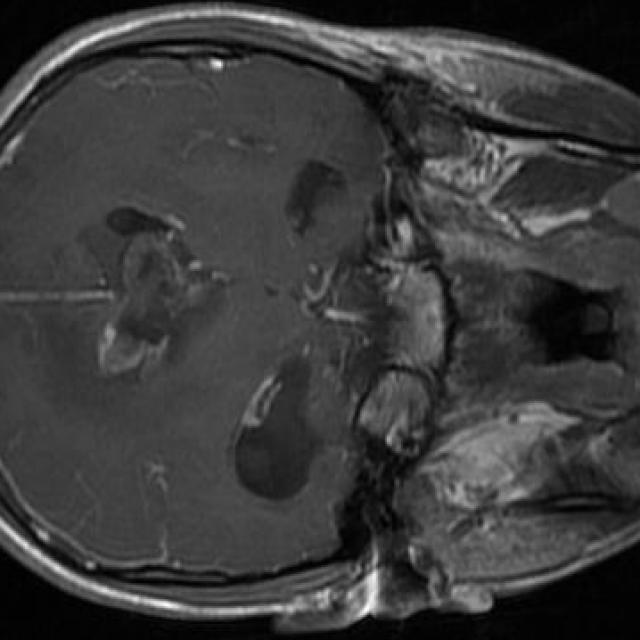glioma: (91, 209, 226, 382)
